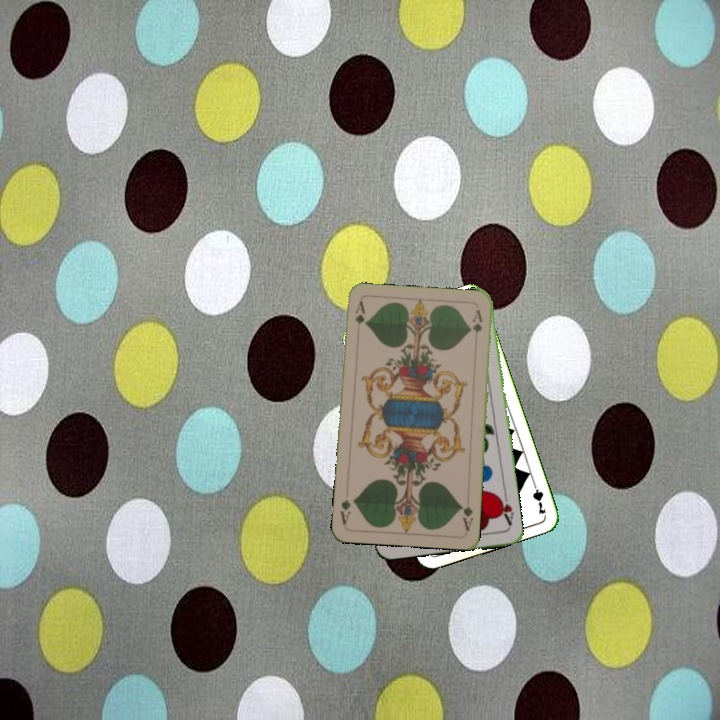G7: (528, 477, 549, 517)
GA: (457, 502, 476, 534), (351, 297, 368, 327)
HA: (494, 489, 516, 528)
